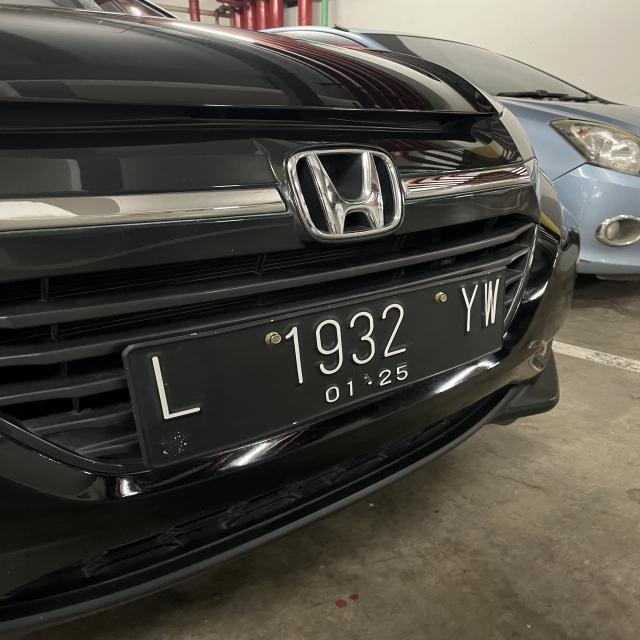1: (279, 328, 310, 389)
2: (378, 300, 411, 360)
3: (346, 308, 378, 366)
9: (315, 316, 349, 377)
L: (140, 349, 208, 419)
W: (480, 276, 498, 327)
Y: (456, 284, 479, 336)
